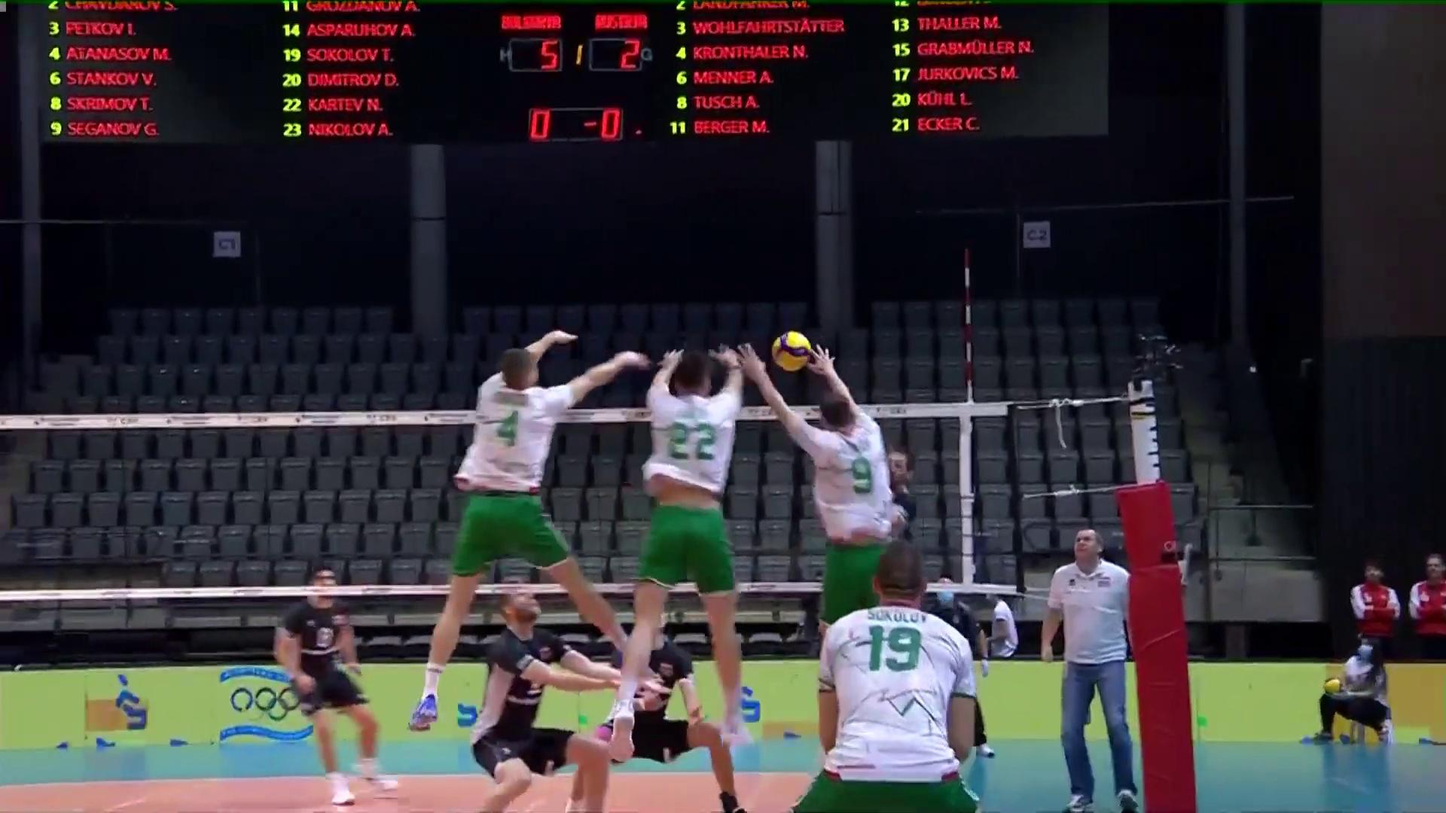ball: (772, 330, 811, 372)
